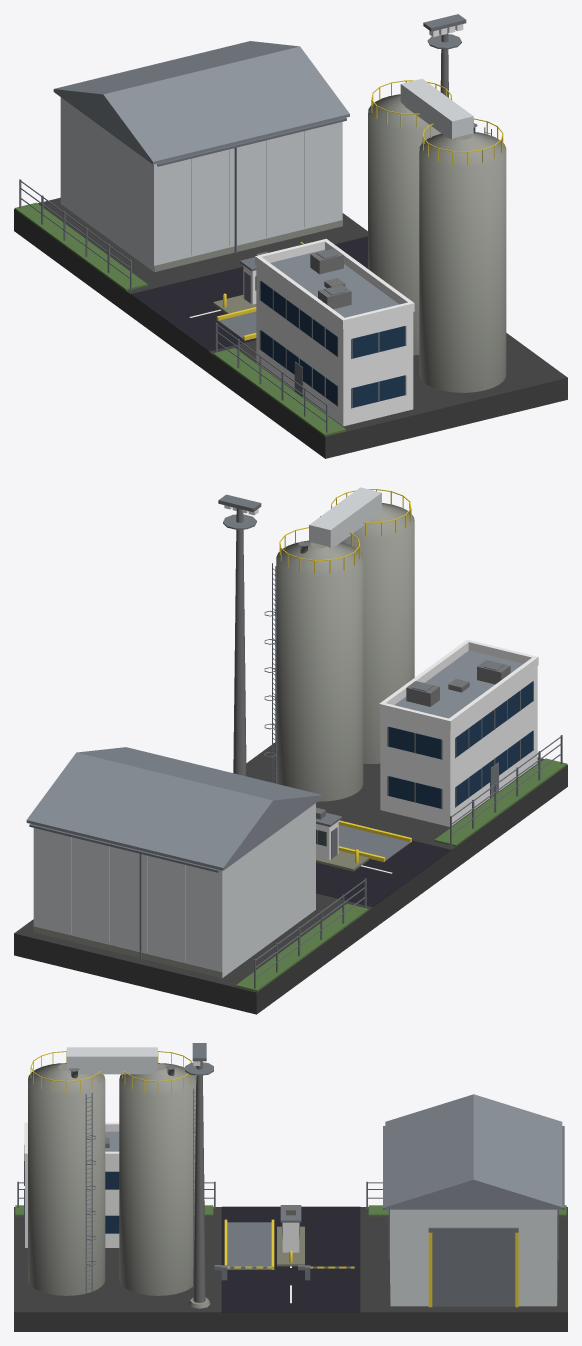
The model's file is port_building_close.fbx.
3 renders of one model, top to bottom at view 1: azimuth 30°, elevation 25°; view 2: azimuth 150°, elevation 25°; view 3: azimuth 270°, elevation 25°, orthographic. The views are drawn at different scales.
Parts seen in each view (by area): view 1: a401_0_port_building_close; view 2: a401_0_port_building_close; view 3: a401_0_port_building_close.
Part boxes in pixels (x1,y1,x2,y2): a401_0_port_building_close: (14, 14, 567, 458); a401_0_port_building_close: (14, 487, 567, 1014); a401_0_port_building_close: (14, 1043, 567, 1331).
Bounding box in the file's own units: 18 × 21.75 × 40.
